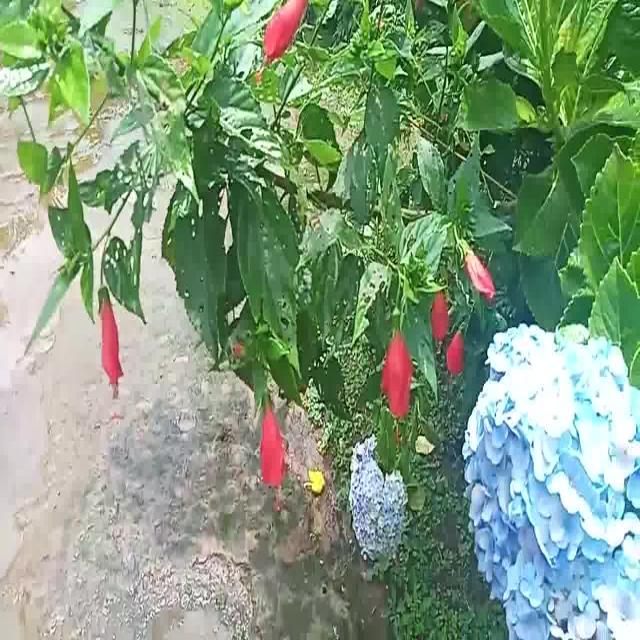Flower: (462, 318, 640, 640), (350, 442, 416, 560), (95, 281, 131, 402), (258, 386, 294, 501), (384, 315, 416, 424), (263, 1, 312, 61), (458, 239, 498, 302)
